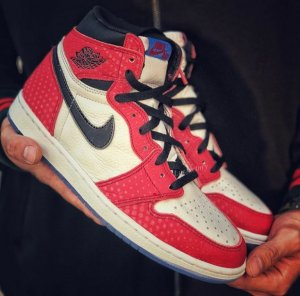Air Jordan 1 Spiderman: (11, 6, 260, 288)
